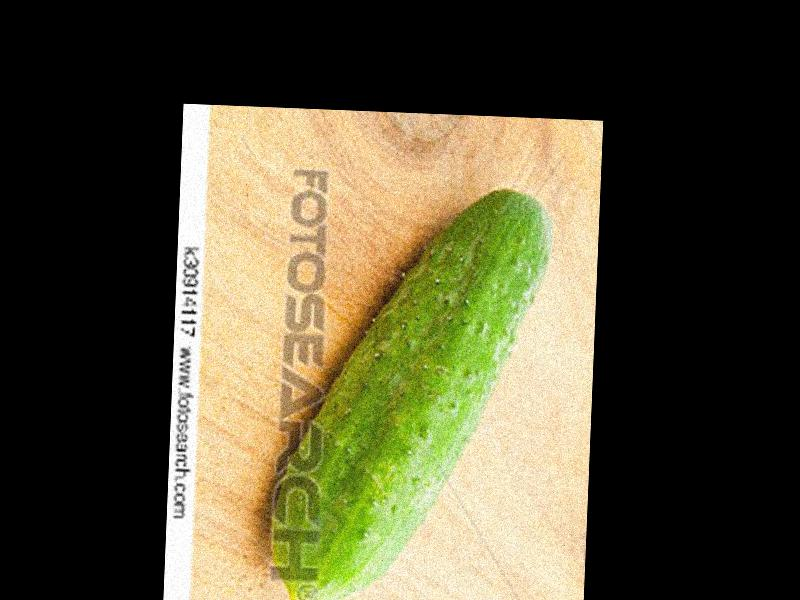Cucumber: (264, 179, 553, 600)
